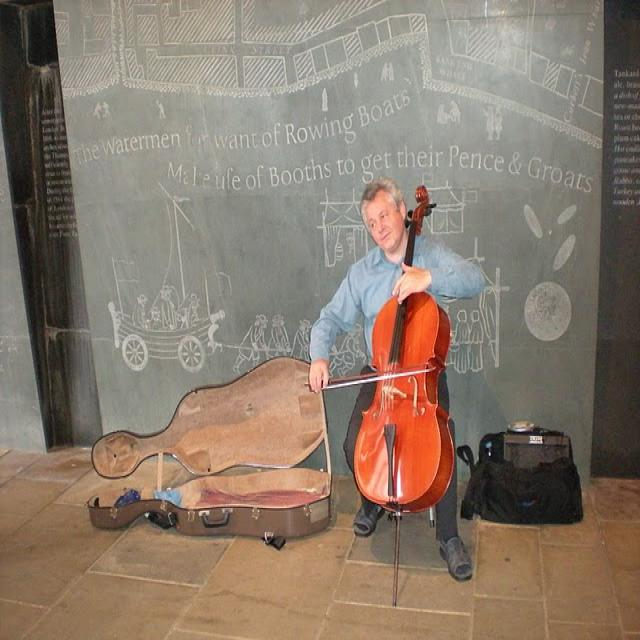cello: (352, 182, 458, 516)
